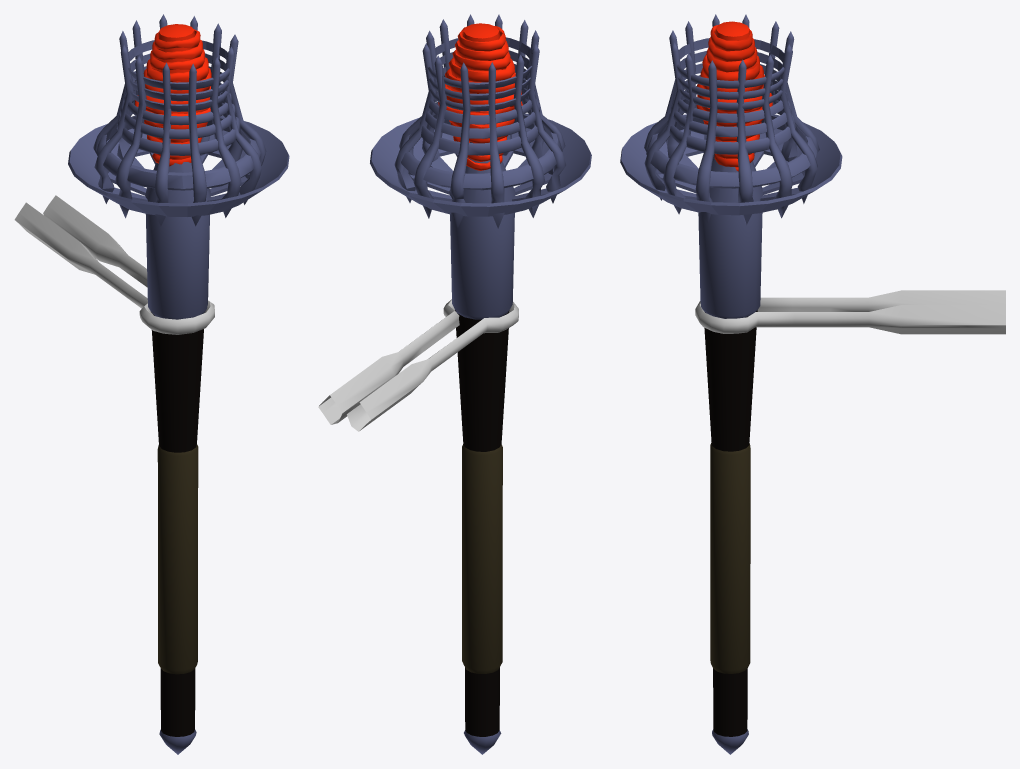
File: TorchWall_20.fbx
3 views of the same model, side by side, from view 1: azimuth 30°, elevation 25°; view 2: azimuth 150°, elevation 25°; view 3: azimuth 270°, elevation 25° (orthographic).
Visible parts, largest first — view 1: TorchWall_20; view 2: TorchWall_20; view 3: TorchWall_20.
Boxes of the visible parts, box(x1,y1,x2,y2) form: TorchWall_20: box(14, 14, 289, 754); TorchWall_20: box(318, 14, 591, 754); TorchWall_20: box(620, 14, 1005, 754).
Size of the model in its own units: 18.15 by 31.49 by 65.8.
